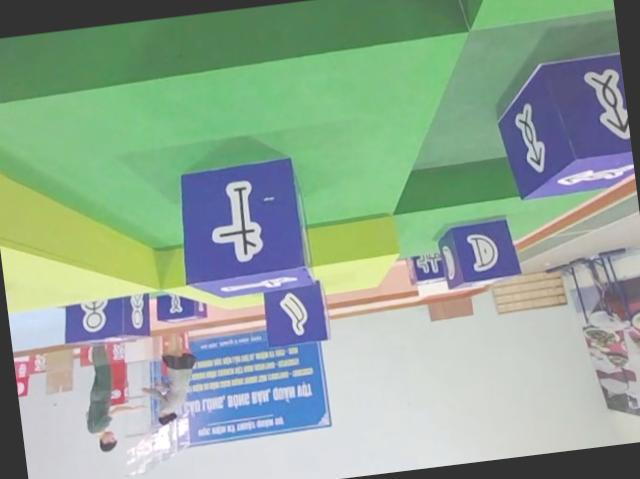R2 Real Blue: (489, 49, 636, 200), (173, 152, 317, 300), (437, 212, 524, 289), (259, 275, 332, 348), (58, 293, 151, 349), (152, 290, 206, 327), (405, 250, 447, 286)
